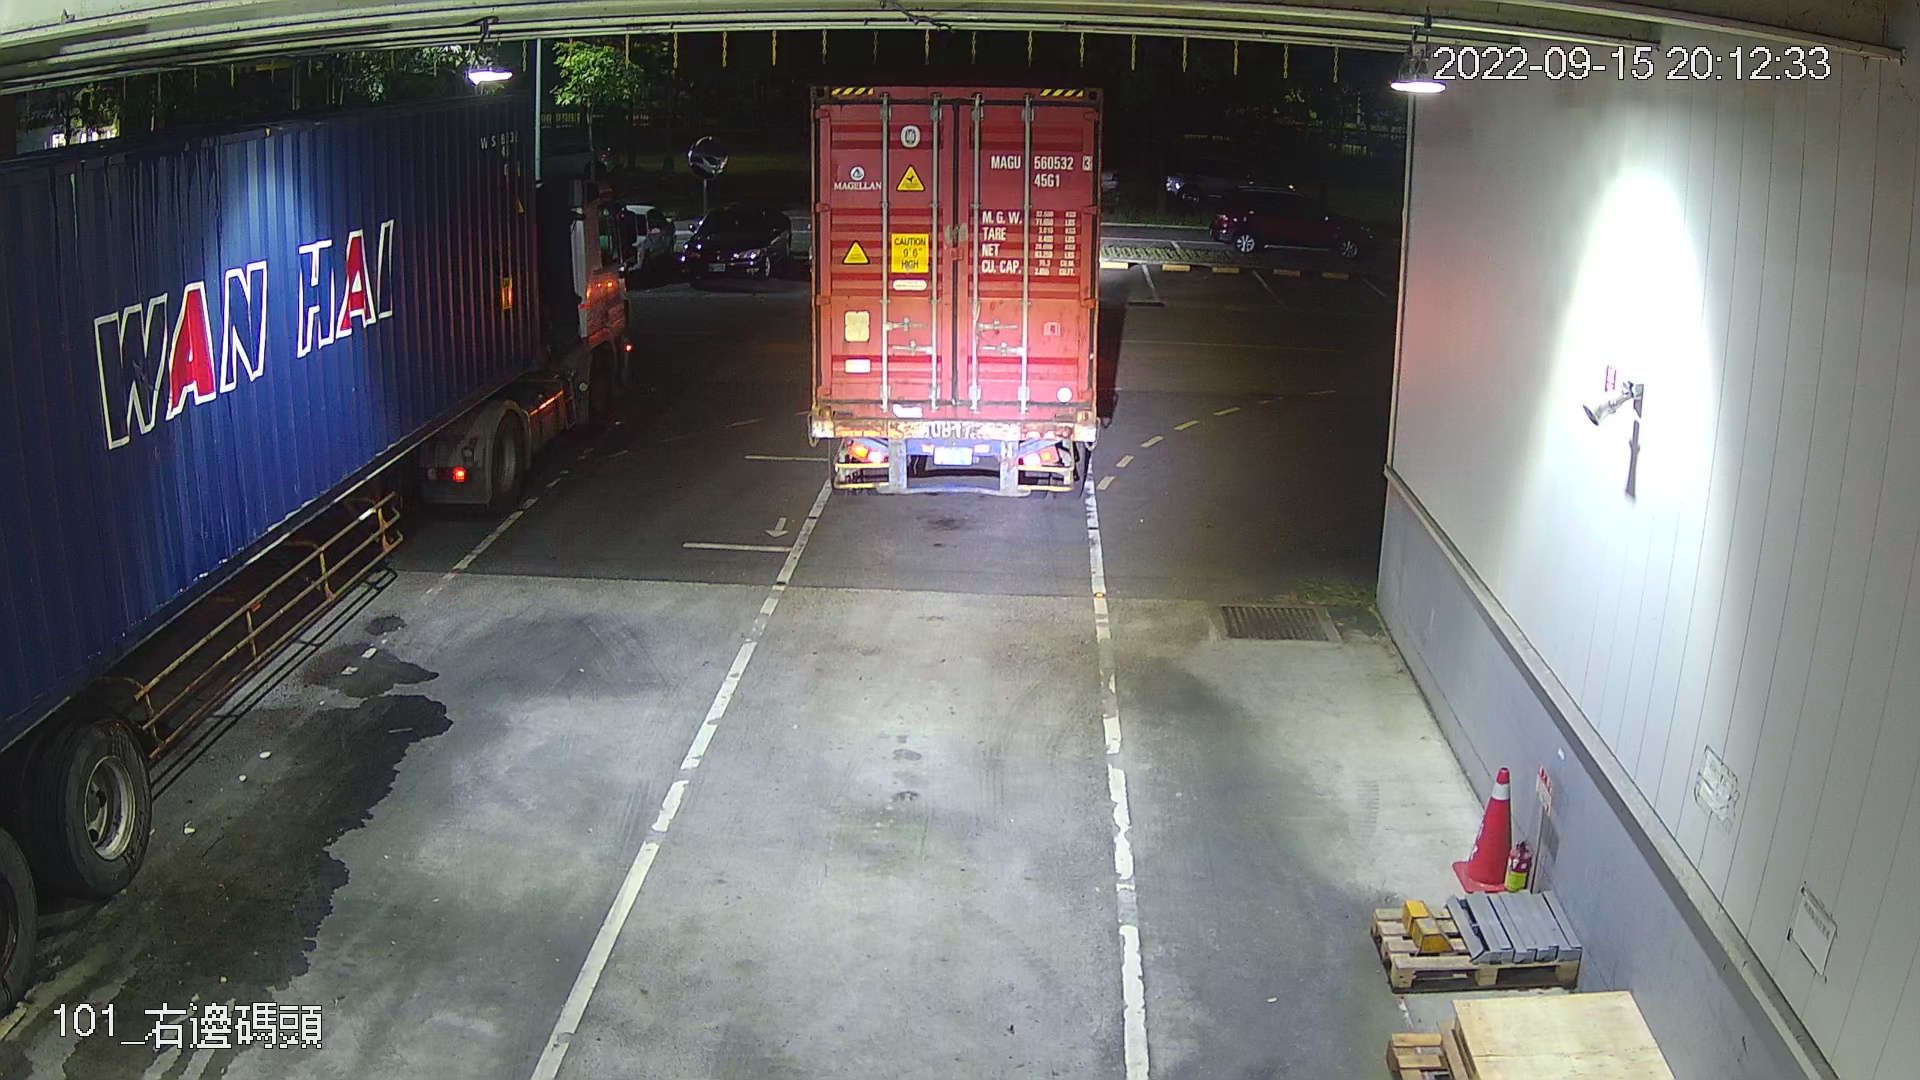container: (985, 146, 1097, 195)
